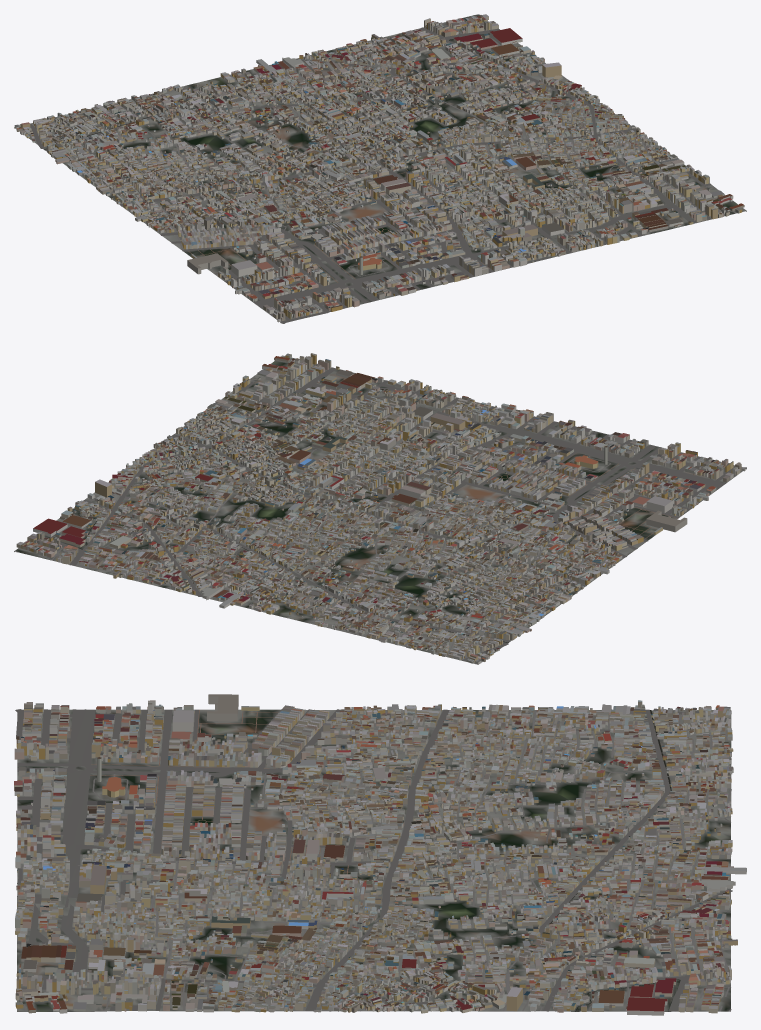
3 views of the same model, one above another, from view 1: azimuth 30°, elevation 25°; view 2: azimuth 150°, elevation 25°; view 3: azimuth 270°, elevation 25° (orthographic). The views are drawn at different scales.
Parts seen in each view (by area): view 1: buildings, ground, roads; view 2: buildings, ground, roads; view 3: buildings, ground, roads.
Boxes of the visible parts, box(x1,y1,x2,y2) form: buildings: box(14, 14, 744, 322); ground: box(14, 15, 746, 322); roads: box(20, 14, 743, 323); buildings: box(16, 353, 745, 664); ground: box(14, 355, 746, 664); roads: box(15, 358, 746, 663); buildings: box(14, 694, 746, 1015); ground: box(17, 709, 731, 1011); roads: box(15, 708, 732, 1011).
Size of the model in its own units: 1456 by 54.45 by 1438.
